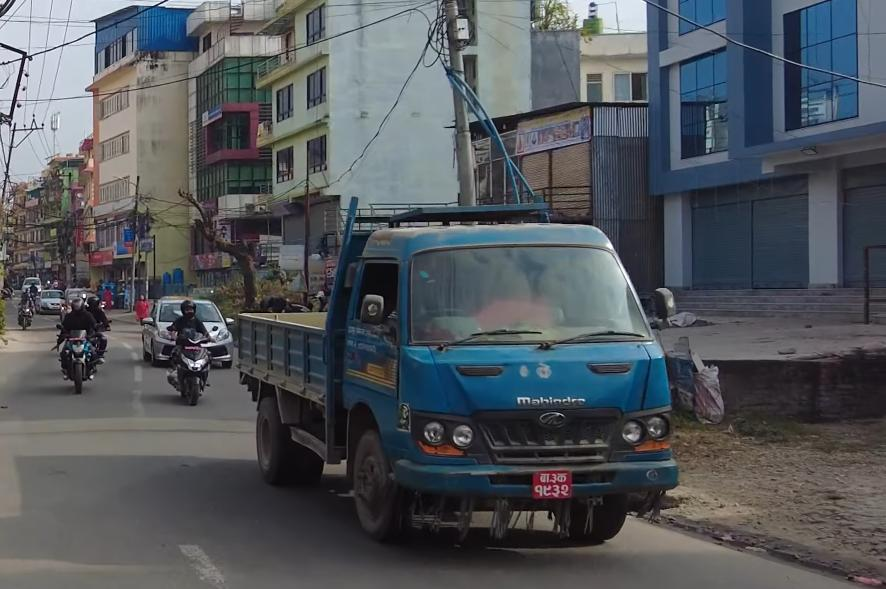bike: (60, 311, 101, 399), (9, 286, 38, 336)
car: (146, 286, 237, 368), (35, 284, 70, 321)
mini_truck: (225, 195, 680, 563)
scooter: (167, 314, 211, 405)
